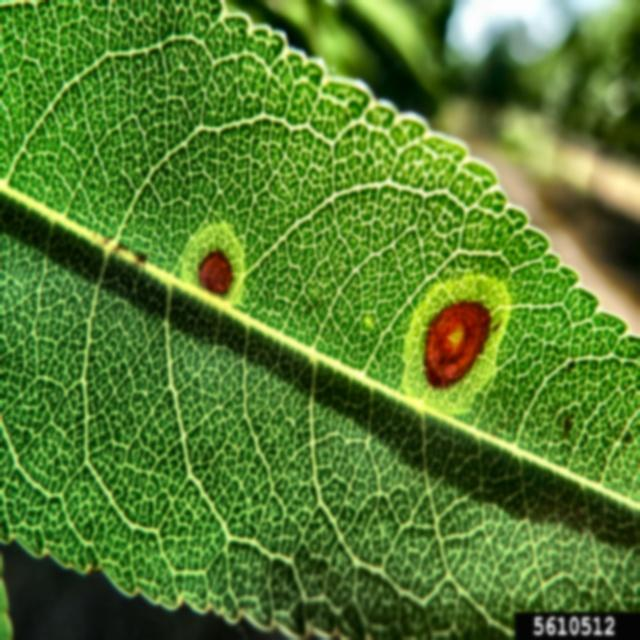leaf_spot: (4, 2, 640, 640)
